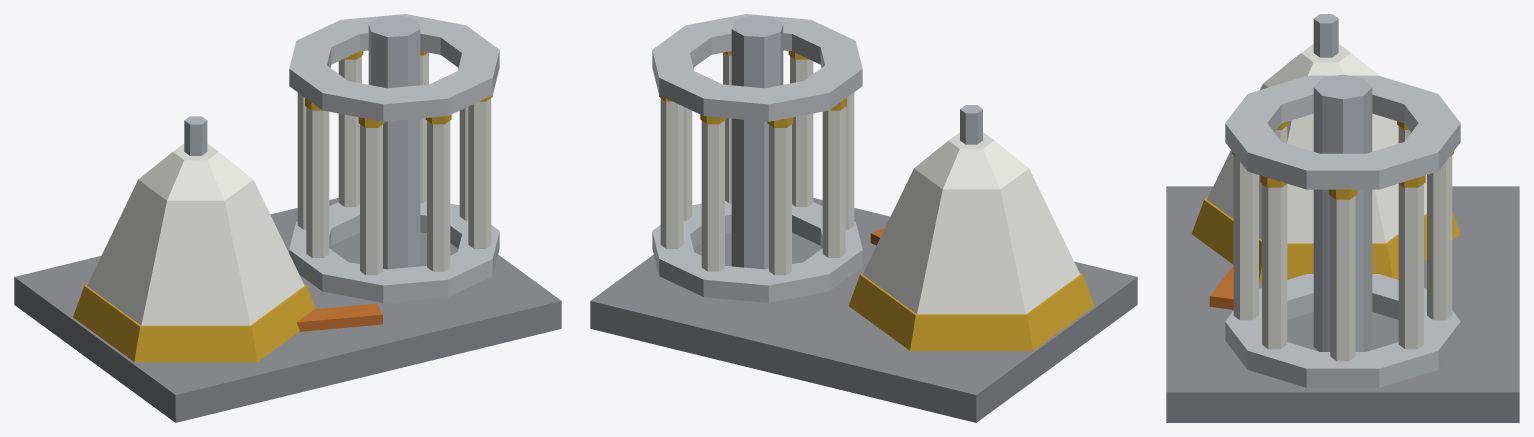
The model's file is sci-seis-caching.glb.
3 renders of one model, left to right at view 1: azimuth 30°, elevation 25°; view 2: azimuth 150°, elevation 25°; view 3: azimuth 270°, elevation 25°, orthographic. The views are drawn at different scales.
Parts seen in each view (by area): view 1: SciSeisCaching_Hull, SciSeisCaching_Titanium, SciSeisCaching_Aluminum, SciSeisCaching_Steel, SciSeisCaching_FoilGold, SciSeisCaching_Foam; view 2: SciSeisCaching_Hull, SciSeisCaching_Titanium, SciSeisCaching_Aluminum, SciSeisCaching_Steel, SciSeisCaching_FoilGold; view 3: SciSeisCaching_Titanium, SciSeisCaching_Hull, SciSeisCaching_Aluminum, SciSeisCaching_Steel, SciSeisCaching_FoilGold, SciSeisCaching_Foam.
Part boxes in pixels (<box>): SciSeisCaching_Hull: <box>87,52,491,325</box>; SciSeisCaching_Titanium: <box>14,198,561,422</box>; SciSeisCaching_Aluminum: <box>289,14,499,302</box>; SciSeisCaching_Steel: <box>184,15,420,269</box>; SciSeisCaching_FoilGold: <box>73,51,492,362</box>; SciSeisCaching_Foam: <box>296,303,382,331</box>; SciSeisCaching_Hull: <box>660,52,1080,314</box>; SciSeisCaching_Titanium: <box>590,198,1137,422</box>; SciSeisCaching_Aluminum: <box>652,14,862,302</box>; SciSeisCaching_Steel: <box>731,15,982,269</box>; SciSeisCaching_FoilGold: <box>659,51,1094,350</box>; SciSeisCaching_Titanium: <box>1166,186,1519,422</box>; SciSeisCaching_Hull: <box>1207,44,1452,361</box>; SciSeisCaching_Aluminum: <box>1225,75,1460,387</box>; SciSeisCaching_Steel: <box>1313,14,1372,351</box>; SciSeisCaching_FoilGold: <box>1191,121,1460,283</box>; SciSeisCaching_Foam: <box>1209,265,1259,309</box>.
Size of the model in its own units: 0.5831 by 0.38 by 0.42.
